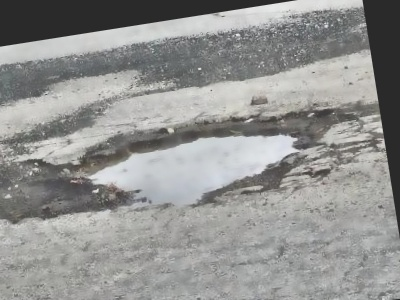pothole: (59, 92, 347, 225)
